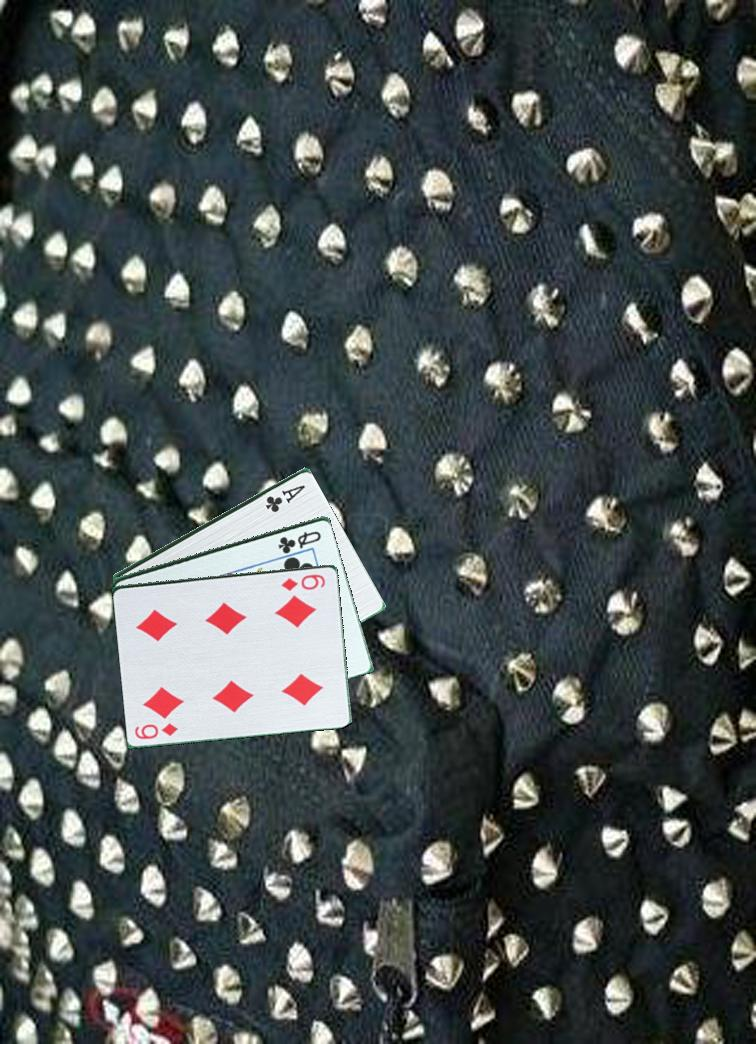6d: (278, 570, 329, 593), (130, 719, 181, 742)
ac: (262, 481, 308, 514)
qc: (275, 527, 324, 554)
